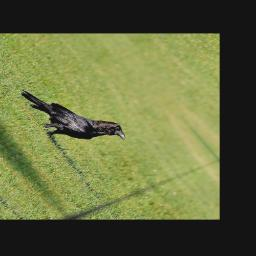Crow: (10, 69, 133, 163)
